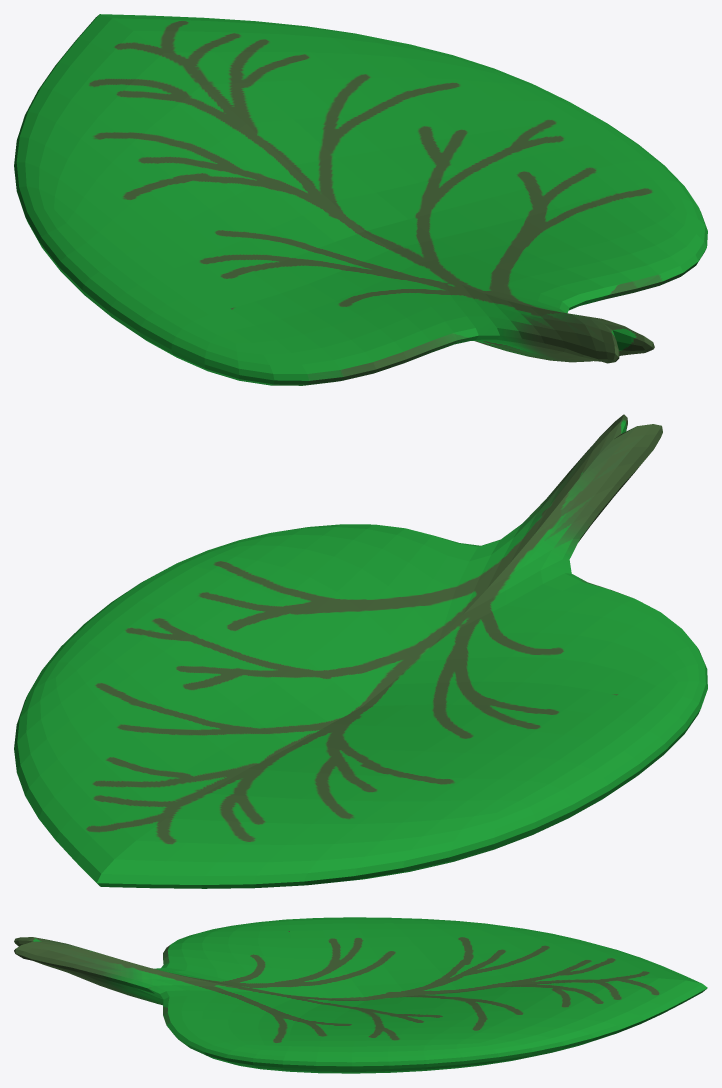
Rendered from Leaf.fbx.
The picture shows the model from 3 angles, top to bottom: view 1: azimuth 30°, elevation 25°; view 2: azimuth 150°, elevation 25°; view 3: azimuth 270°, elevation 25°; orthographic projection. The views are drawn at different scales.
Parts seen in each view (by area): view 1: Cube; view 2: Cube; view 3: Cube.
Boxes of the visible parts, x1,y1,x2,y2 form: Cube: (14, 14, 707, 385); Cube: (14, 414, 707, 888); Cube: (14, 917, 707, 1073).
Bounding box in the file's own units: 170 × 46.61 × 300.
